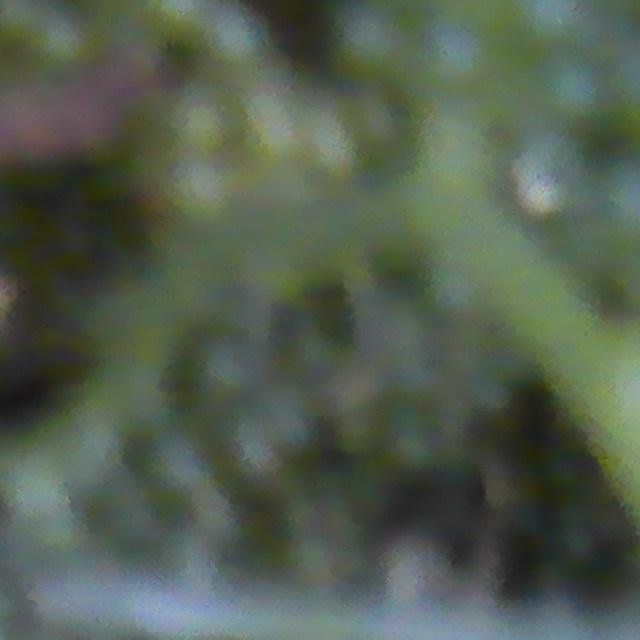SeaGrape: (409, 18, 491, 99), (325, 2, 408, 68), (535, 53, 607, 126), (168, 154, 238, 226), (502, 0, 584, 51), (205, 5, 268, 68)
